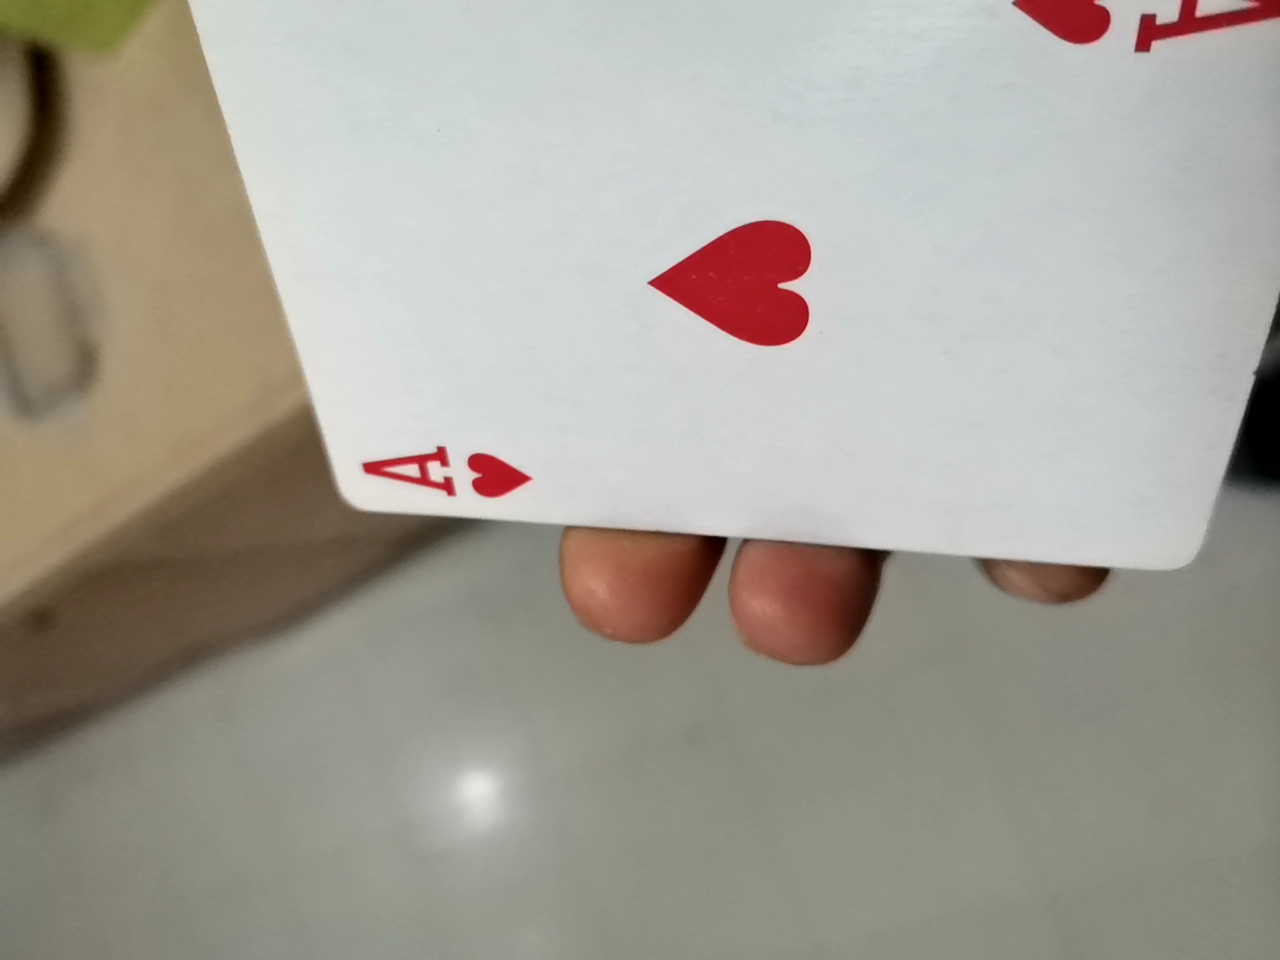hx a: (170, 9, 1264, 640)
